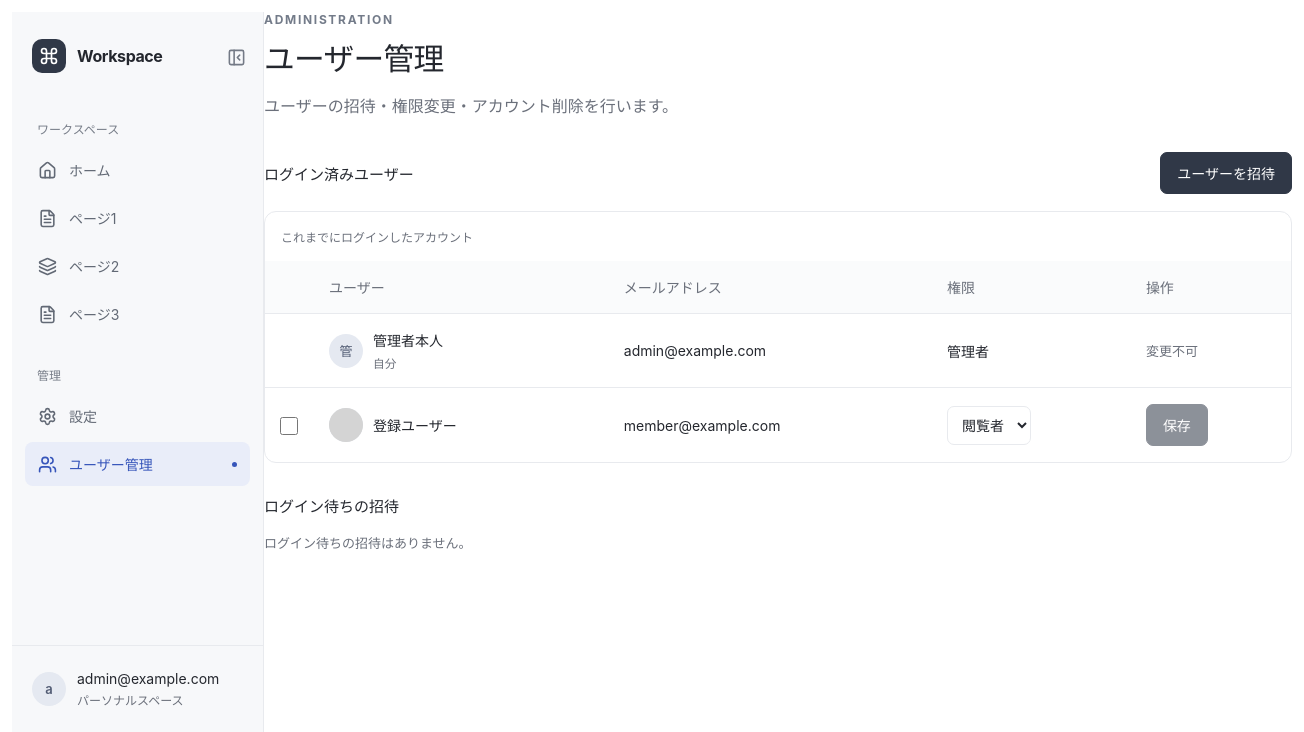
Scenario: 管理者専用ユーザー管理 › 全ての選択を解除すると削除ボタンを隠す
Step 1. Click the checkbox named "member@example.comを選択" → click(289, 426), box [280,417,298,435]
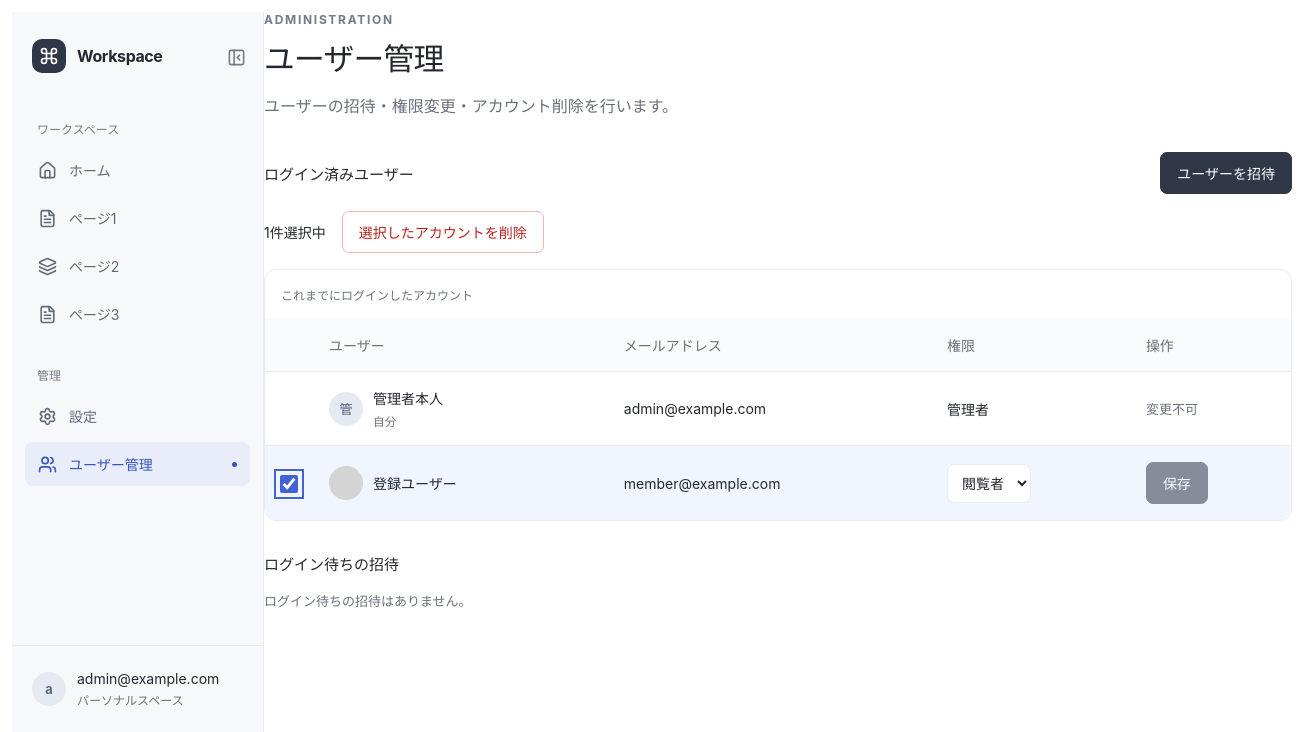
Step 2. Click the checkbox named "member@example.comを選択" → click(289, 484), box [280,475,298,493]
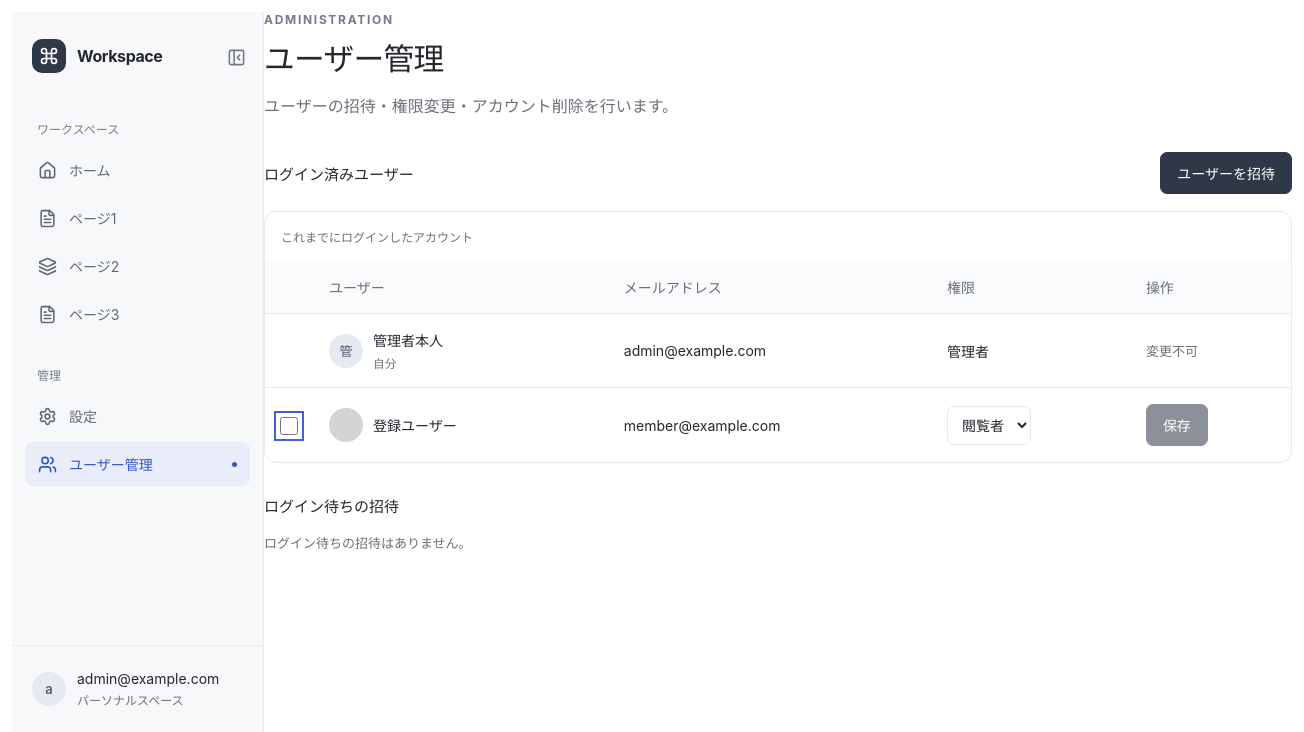
Result: the button "選択したアカウントを削除" is gone
